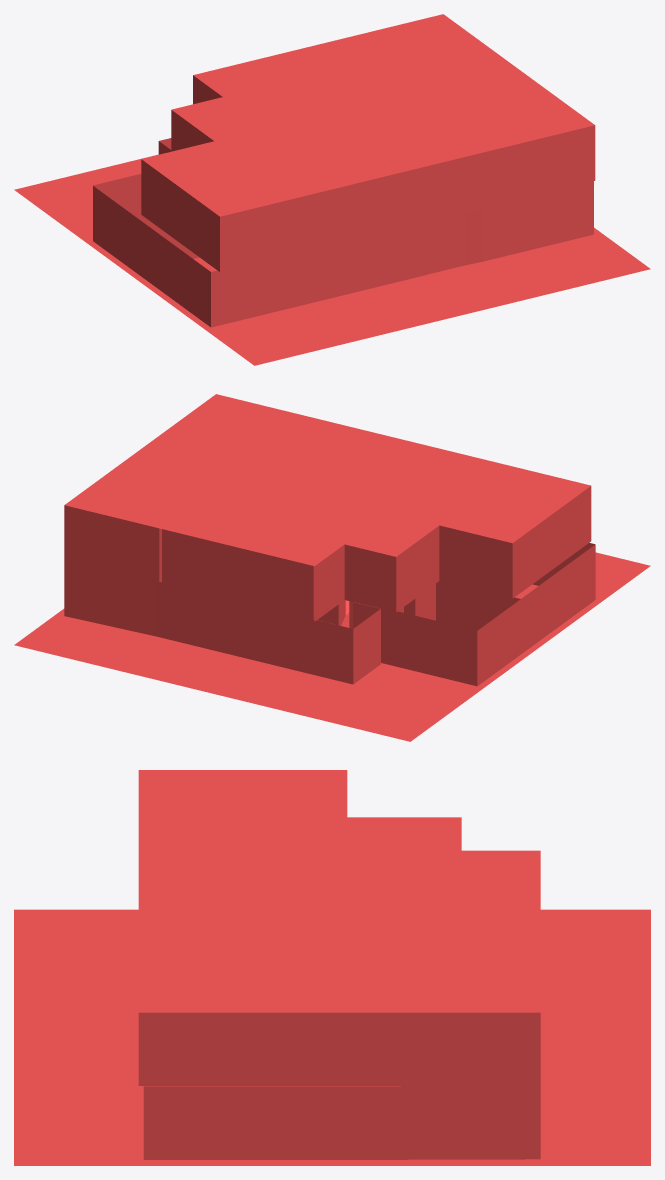
The model's file is InteriorPaintingPlanning.fbx.
3 renders of one model, top to bottom at view 1: azimuth 30°, elevation 25°; view 2: azimuth 150°, elevation 25°; view 3: azimuth 270°, elevation 25°, orthographic. The views are drawn at different scales.
Parts seen in each view (by area): view 1: SketchUp, ID58; view 2: SketchUp, ID58; view 3: SketchUp, ID58.
Boxes of the visible parts, x1,y1,x2,y2 form: SketchUp: (93, 14, 595, 327); ID58: (14, 154, 650, 365); SketchUp: (64, 394, 595, 686); ID58: (14, 552, 650, 741); SketchUp: (138, 770, 540, 1159); ID58: (14, 909, 650, 1165).
Size of the model in its own units: 896 by 941 by 241.
